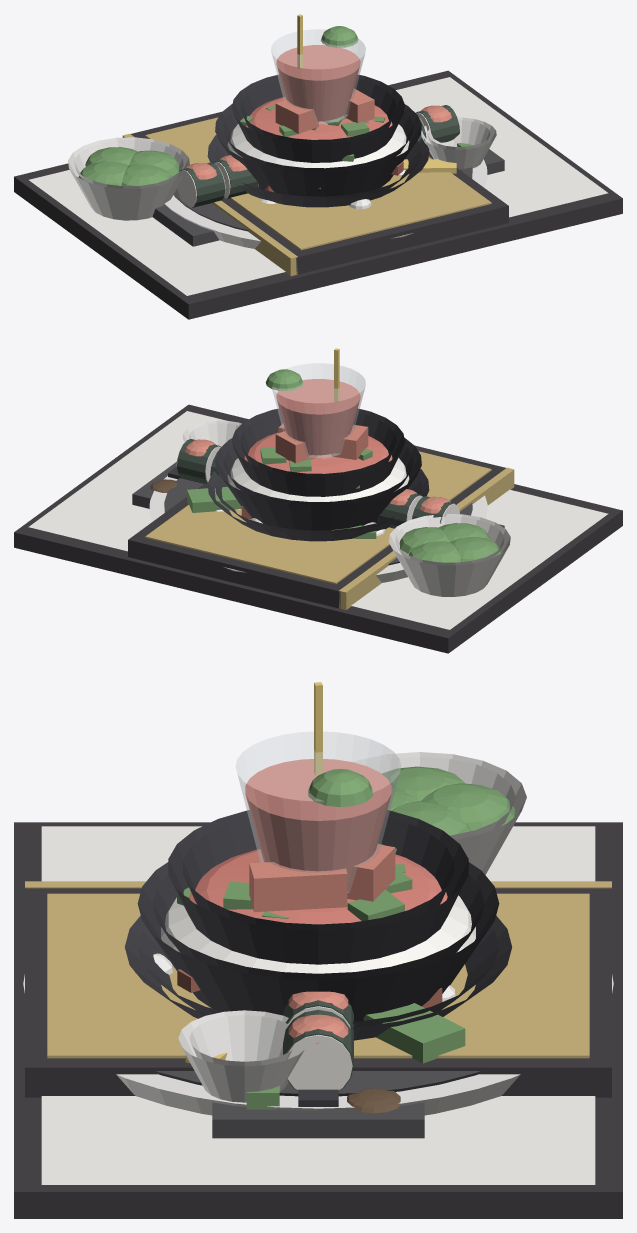
File: koma-props-v15.glb
3 renders of one model, top to bottom at view 1: azimuth 30°, elevation 25°; view 2: azimuth 150°, elevation 25°; view 3: azimuth 270°, elevation 25°, orthographic. The views are drawn at different scales.
Parts seen in each view (by area): view 1: prop-menu-open, prop-menu-closed, form-iron-pan, form-hotpot, form-donabe, form-cocktail, form-maki-board, form-tempura-stand, form-steak-plate, form-sashimi-plate; view 2: prop-menu-open, prop-menu-closed, form-iron-pan, form-hotpot, form-donabe, form-cocktail, form-maki-board, form-tempura-stand, form-steak-plate, form-sashimi-plate; view 3: prop-menu-open, prop-menu-closed, form-hotpot, form-donabe, form-cocktail, form-iron-pan, form-maki-board, form-tempura-stand, form-steak-plate, form-sashimi-plate.
Boxes of the visible parts, bbox=[...] form: prop-menu-open: bbox=[14, 70, 622, 319]; prop-menu-closed: bbox=[122, 111, 508, 276]; form-iron-pan: bbox=[68, 135, 429, 220]; form-hotpot: bbox=[232, 74, 404, 162]; form-donabe: bbox=[215, 104, 421, 196]; form-cocktail: bbox=[271, 14, 365, 123]; form-maki-board: bbox=[152, 105, 504, 246]; form-tempura-stand: bbox=[275, 88, 496, 168]; form-steak-plate: bbox=[164, 159, 487, 248]; form-sashimi-plate: bbox=[173, 167, 472, 231]; prop-menu-open: bbox=[14, 404, 622, 653]; prop-menu-closed: bbox=[128, 445, 514, 609]; form-iron-pan: bbox=[168, 467, 510, 596]; form-hotpot: bbox=[232, 408, 404, 496]; form-donabe: bbox=[215, 437, 421, 530]; form-cocktail: bbox=[265, 348, 365, 457]; form-maki-board: bbox=[132, 439, 504, 528]; form-tempura-stand: bbox=[182, 420, 368, 463]; form-steak-plate: bbox=[149, 476, 487, 582]; form-sashimi-plate: bbox=[164, 478, 472, 565]; prop-menu-open: bbox=[14, 822, 622, 1218]; prop-menu-closed: bbox=[25, 881, 611, 1097]; form-hotpot: bbox=[168, 810, 468, 964]; form-donabe: bbox=[137, 843, 499, 1021]; form-cocktail: bbox=[235, 682, 401, 892]; form-iron-pan: bbox=[125, 752, 526, 1106]; form-maki-board: bbox=[212, 991, 424, 1138]; form-tempura-stand: bbox=[178, 844, 395, 1102]; form-steak-plate: bbox=[23, 974, 613, 1115]; form-sashimi-plate: bbox=[135, 953, 480, 1096].
Size of the model in its own units: 0.474 by 0.2 by 0.33.
